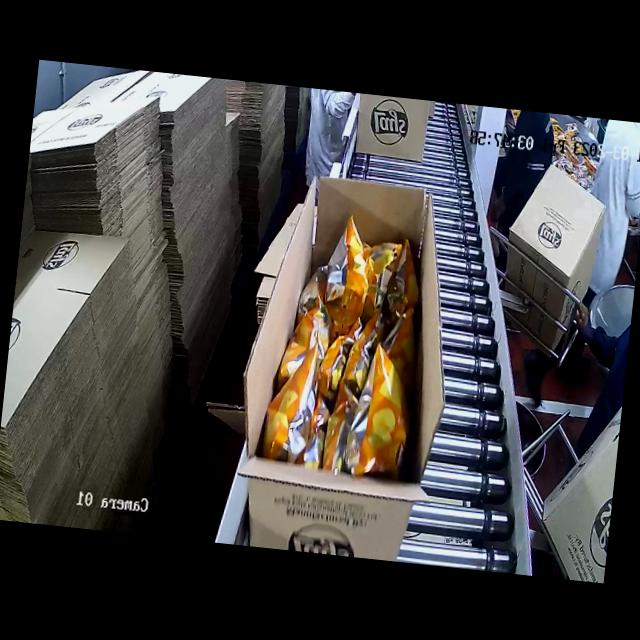cheese: (268, 210, 432, 462)
